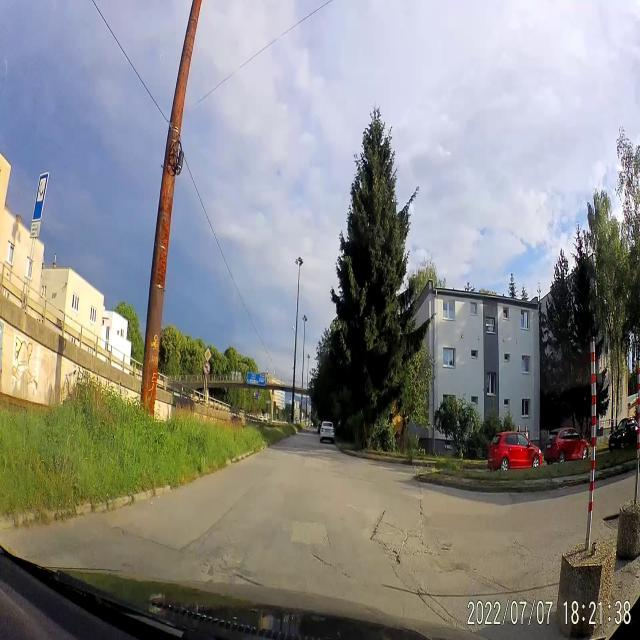Pothole: (368, 533, 404, 569)
